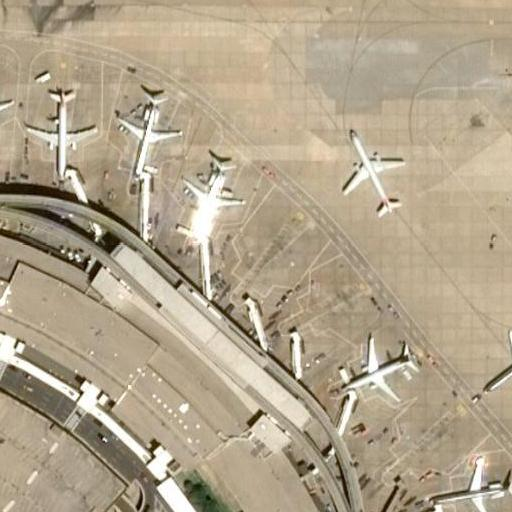Aircraft: (21, 79, 95, 175), (339, 125, 408, 227), (180, 152, 253, 248), (118, 86, 175, 178), (429, 449, 512, 512), (484, 320, 512, 395), (0, 57, 2, 159)
